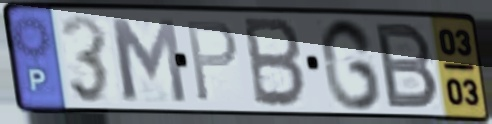3: (59, 12, 113, 107)
B: (242, 14, 309, 111), (374, 20, 442, 111)
G: (317, 16, 385, 114)
M: (105, 15, 191, 106)
P: (184, 18, 241, 105)
